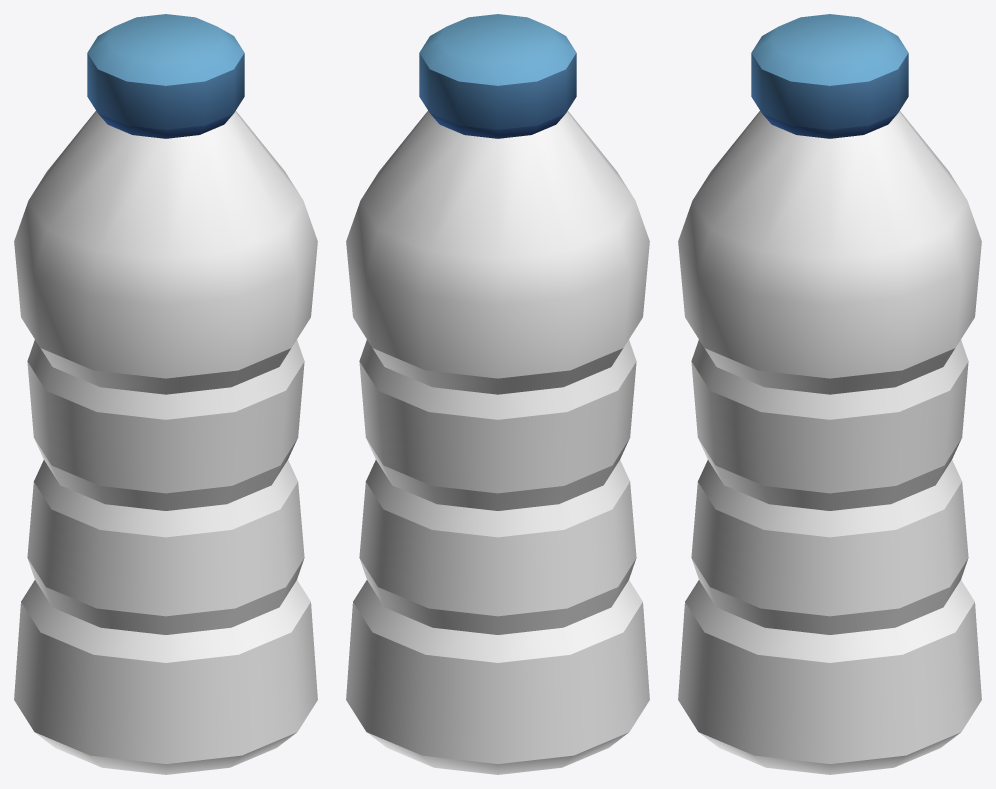
The model's file is waterbottle_B.fbx.
The picture shows the model from 3 angles, left to right: view 1: azimuth 30°, elevation 25°; view 2: azimuth 150°, elevation 25°; view 3: azimuth 270°, elevation 25°; orthographic projection.
Parts seen in each view (by area): view 1: waterbottle_B; view 2: waterbottle_B; view 3: waterbottle_B.
Part boxes in pixels (x1=…): waterbottle_B: x1=14, y1=14, x2=317, y2=774; waterbottle_B: x1=346, y1=14, x2=649, y2=774; waterbottle_B: x1=678, y1=14, x2=981, y2=774.
Bounding box in the file's own units: 0.3293 × 0.8153 × 0.3293.
